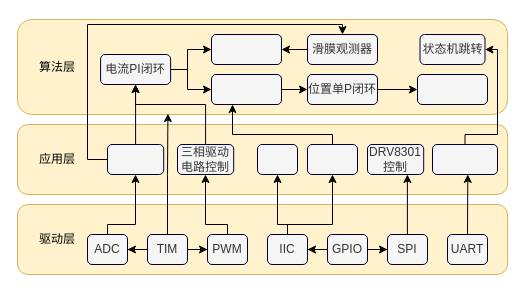
Image size: 525x292. Some labels were removed from this diagram. The centre of each missing label's shape, as x and y in pixels:
OLED显示: point (277, 159)
指令解析: point (465, 159)
无感速度PI闭环: point (246, 49)
有感速度LADRC闭环: point (246, 89)
电压与温度采样: point (135, 159)
编码器角度读取: point (332, 159)
运动控制: point (452, 89)
